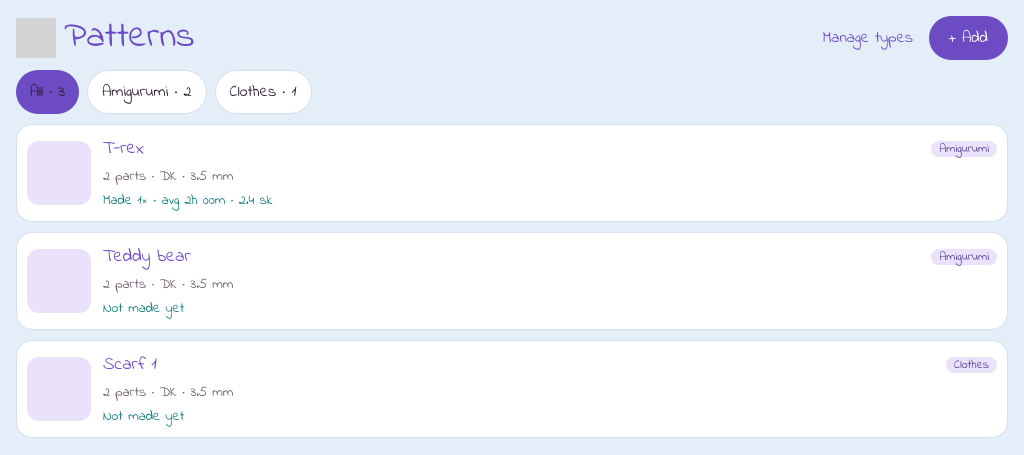
Test: shows type chips with counts and filters by type
Click the button "Clothes · 1" at (263, 92), box [215,70,312,114]
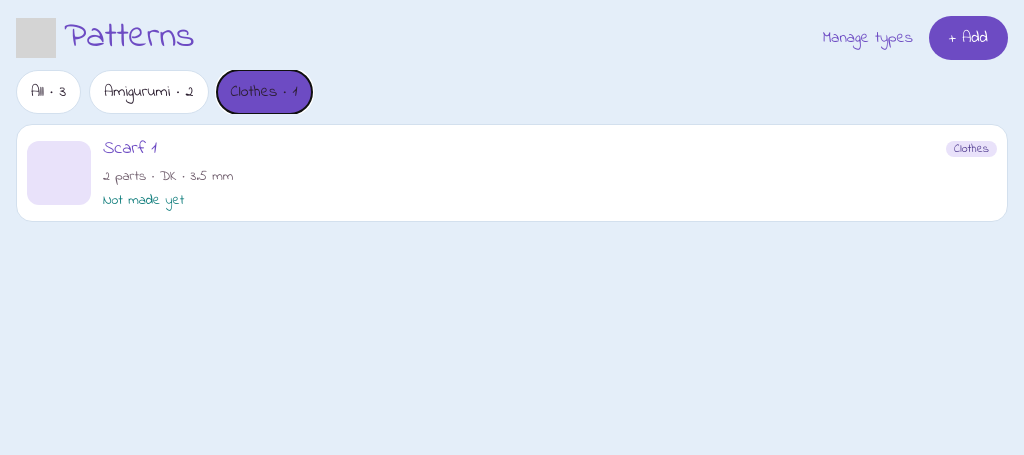
Expected: the link "Scarf 1 Clothes 2 parts · DK · 3.5 mm Not made yet" is shown, [16,124,1008,222]
Expected: the link "T-rex" is gone
